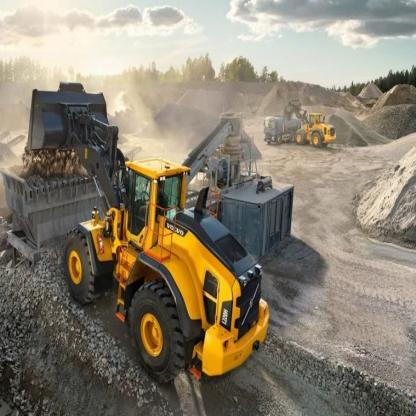bull_dozer/loader/grader: (18, 71, 270, 375), (284, 90, 339, 160)
